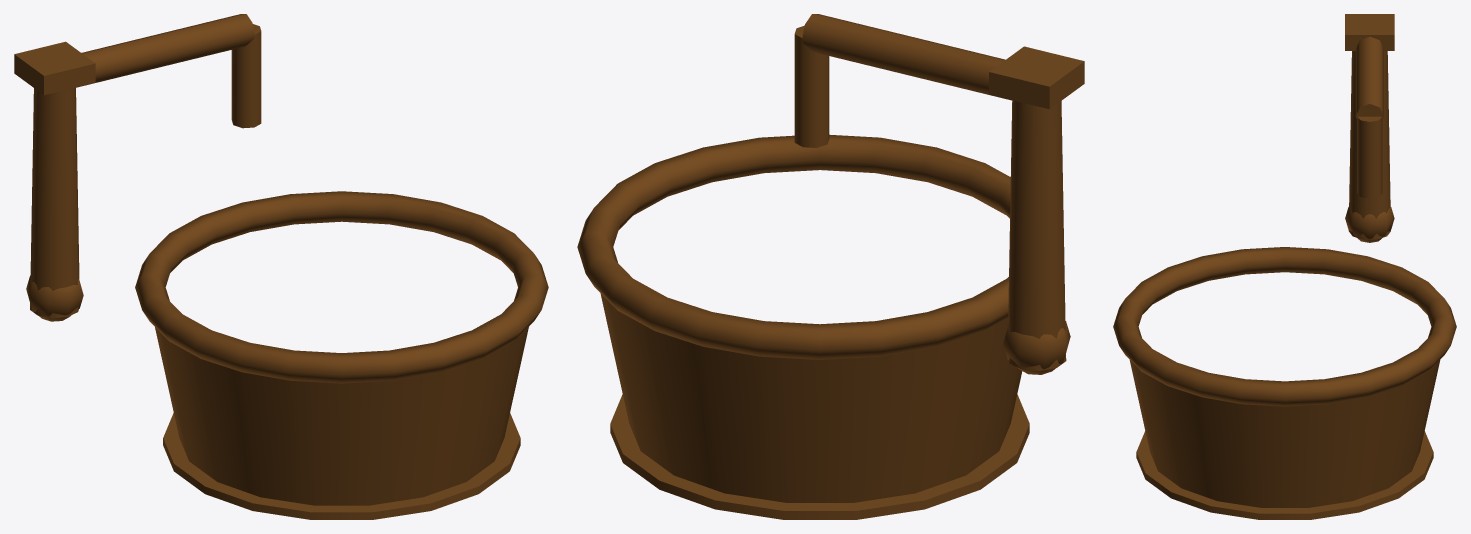
File: sink.glb
The picture shows the model from 3 angles, left to right: view 1: azimuth 30°, elevation 25°; view 2: azimuth 150°, elevation 25°; view 3: azimuth 270°, elevation 25°; orthographic projection. The views are drawn at different scales.
Visible parts, largest first — view 1: sink; view 2: sink; view 3: sink.
Boxes of the visible parts, x1,y1,x2,y2 form: sink: [14, 14, 548, 519]; sink: [577, 14, 1084, 519]; sink: [1113, 14, 1456, 519].
Bounding box in the file's own units: 0.598 × 0.5275 × 0.486.
